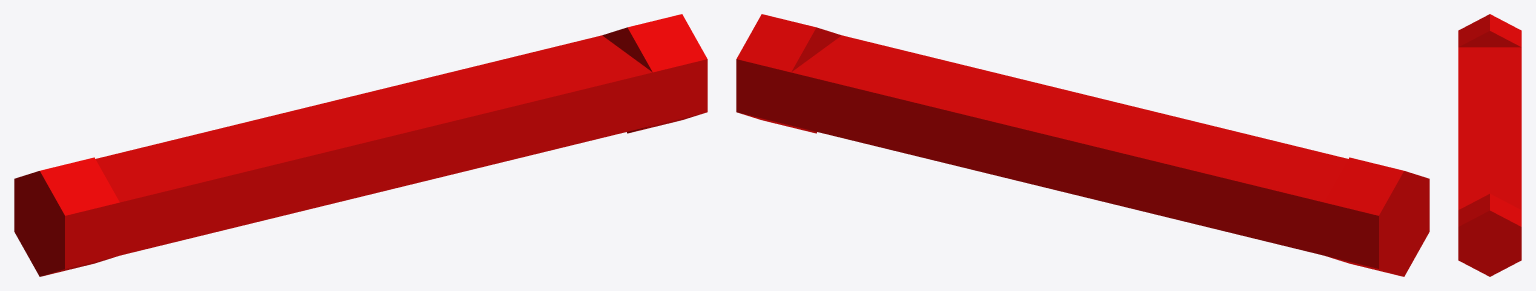
File: ToyLogA.fbx
The picture shows the model from 3 angles, left to right: view 1: azimuth 30°, elevation 25°; view 2: azimuth 150°, elevation 25°; view 3: azimuth 270°, elevation 25°; orthographic projection. The views are drawn at different scales.
Visible parts, largest first — view 1: ToyLogA; view 2: ToyLogA; view 3: ToyLogA.
Boxes of the visible parts, bbox=[...] form: ToyLogA: bbox=[14, 14, 707, 276]; ToyLogA: bbox=[736, 14, 1429, 276]; ToyLogA: bbox=[1458, 14, 1521, 276].
Size of the model in its own units: 60.45 by 9.55 by 8.27.
